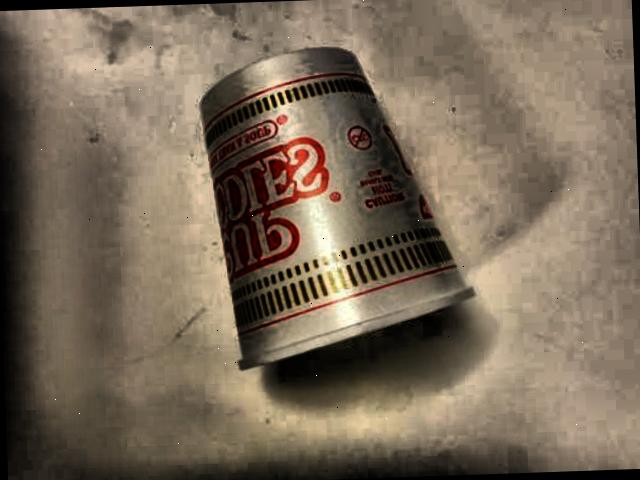Almennt: (151, 22, 482, 418)
